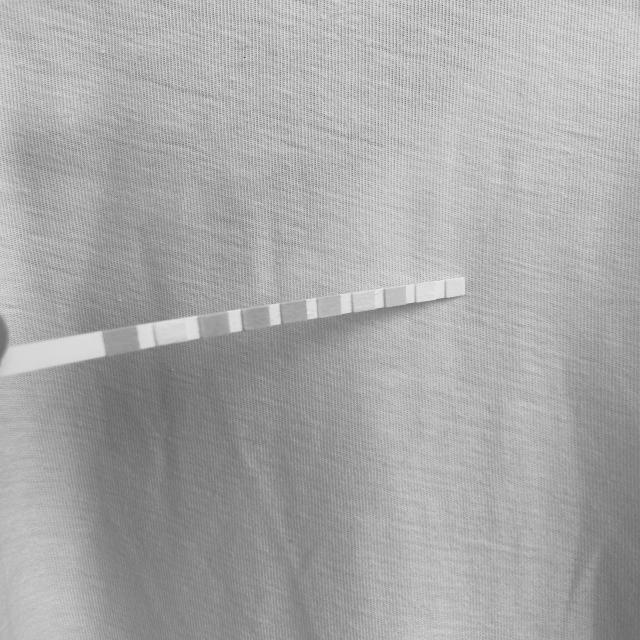Bilirubin: (158, 322, 182, 342)
Blood: (282, 304, 306, 320)
Glucose: (108, 330, 136, 350)
Ketone: (202, 315, 227, 335)
Leukocytes: (447, 280, 465, 295)
Nitrite: (417, 284, 435, 299)
Protein: (354, 293, 374, 309)
SpGravity: (245, 309, 269, 326)
Urobilinogen: (386, 289, 406, 304)
background: (0, 0, 640, 640)
pH: (319, 298, 341, 314)
strip: (11, 278, 466, 374)
